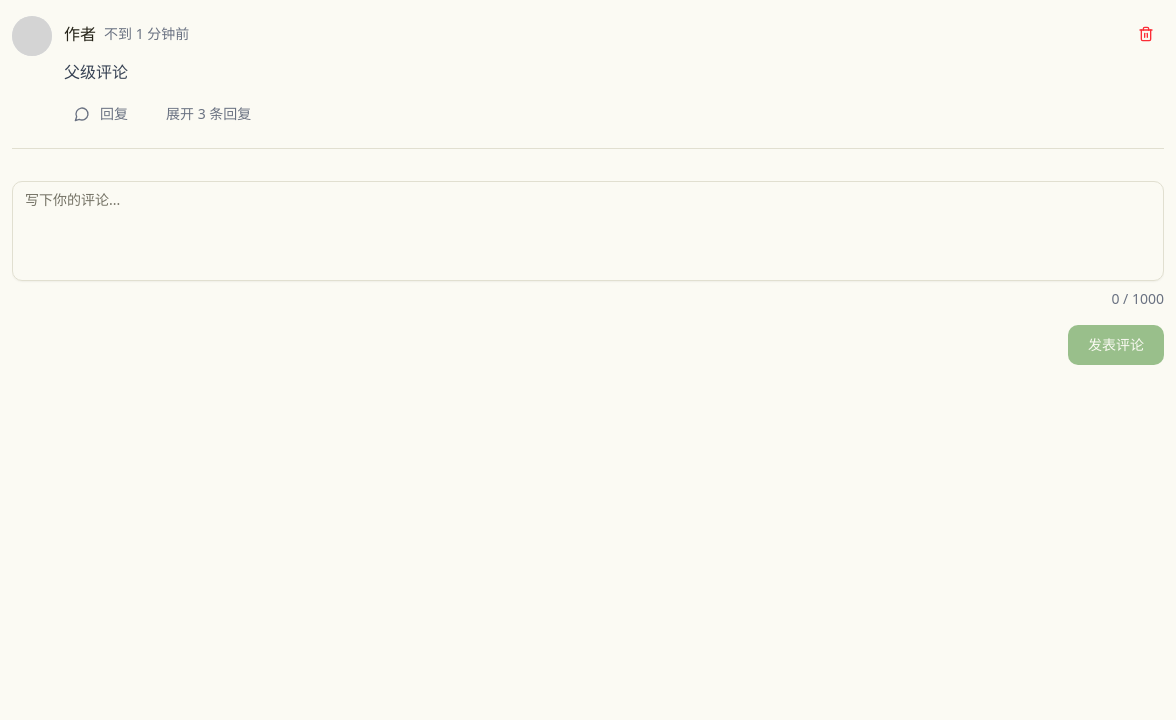
Test: CommentList › renders load more replies button when pagination reports more data
Later steps or results of the test are not shown.
Click the button "展开 3 条回复". click: (209,114)
box: [154,96,263,132]
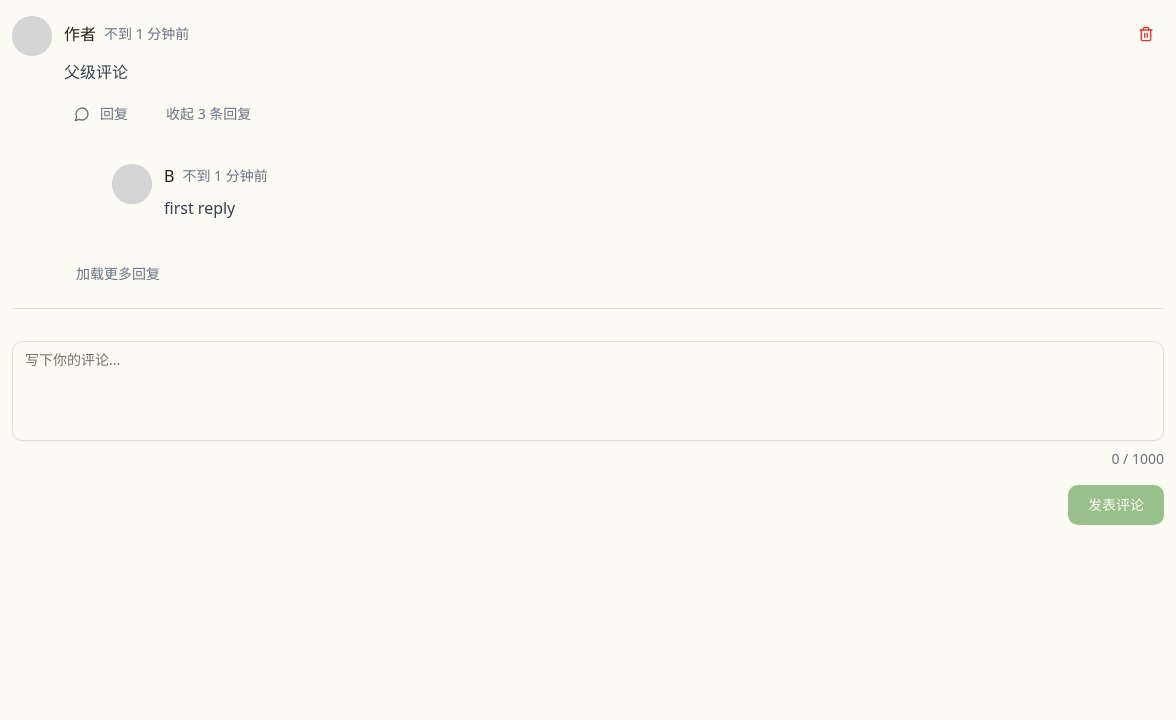
Now the button "加载更多回复" is shown, box [64,256,172,292]
